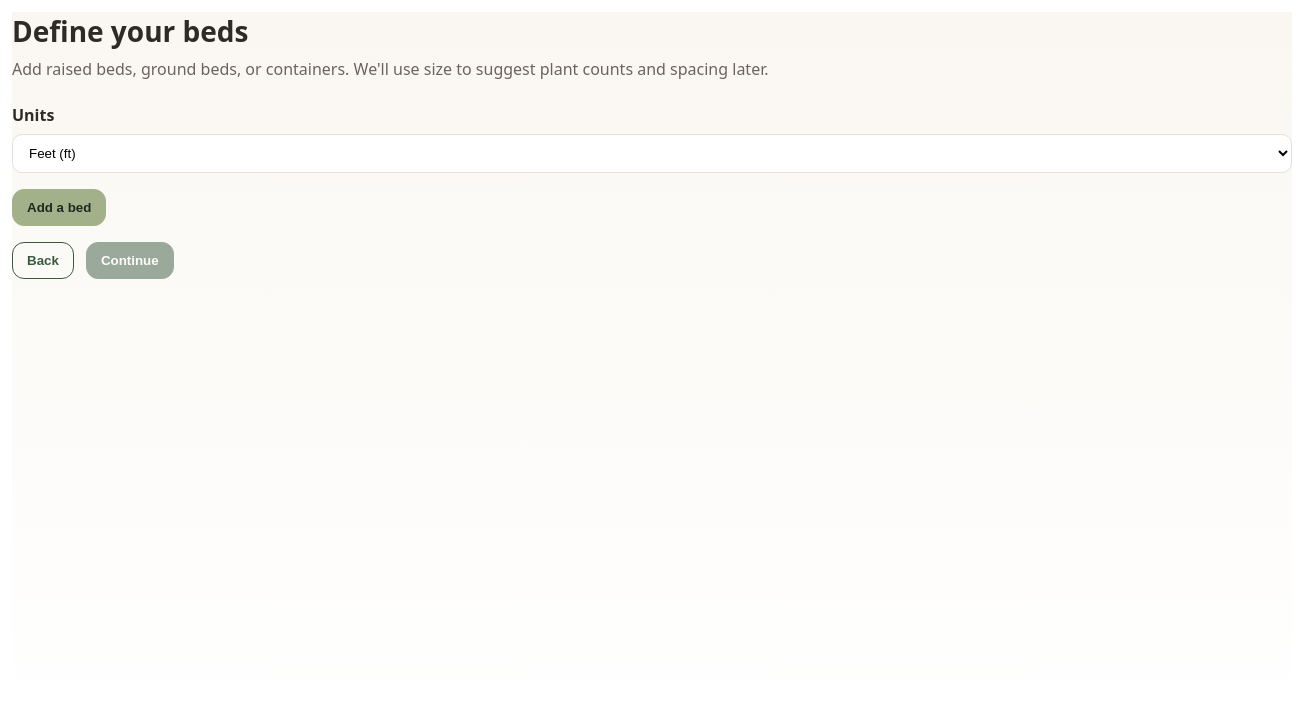
Test: BedsStep › adds and removes beds
This screenshot has width=1304, height=708.
Click the button "Add a bed" at coordinates (59, 208), box [12,189,106,226]
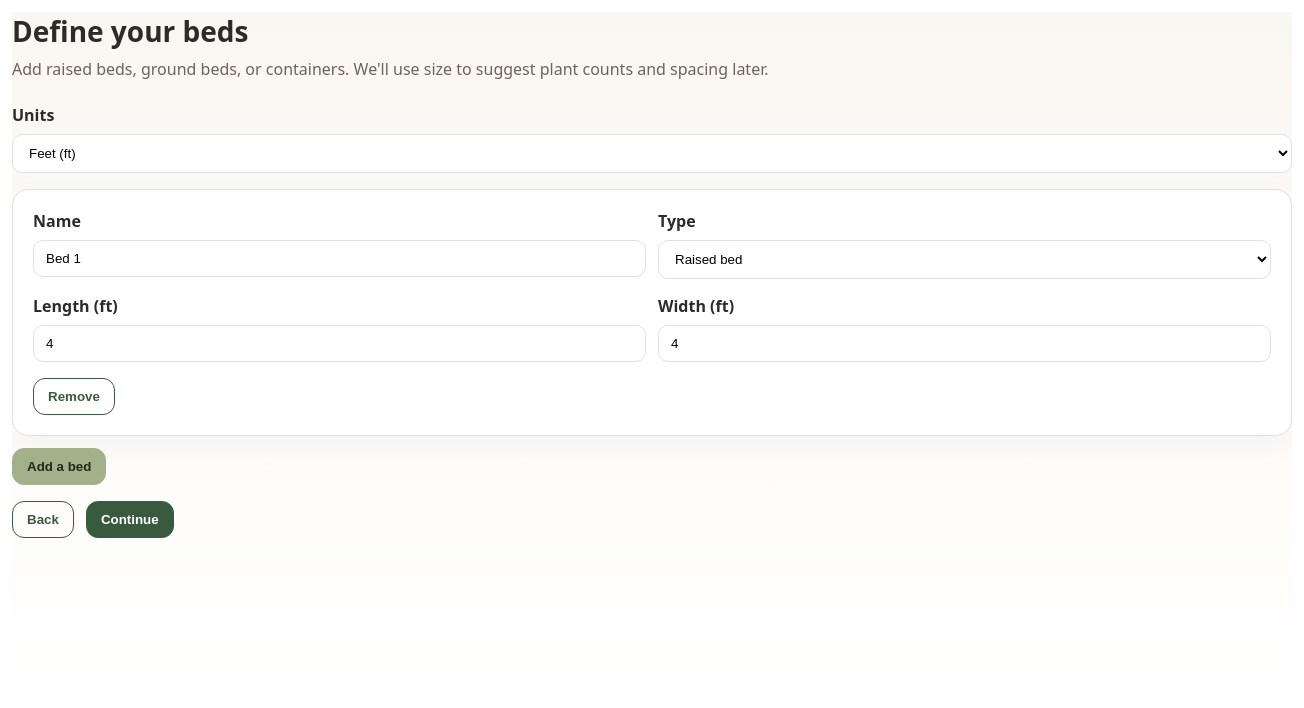
Click the button "Add a bed" at coordinates (59, 466), box [12,448,106,485]
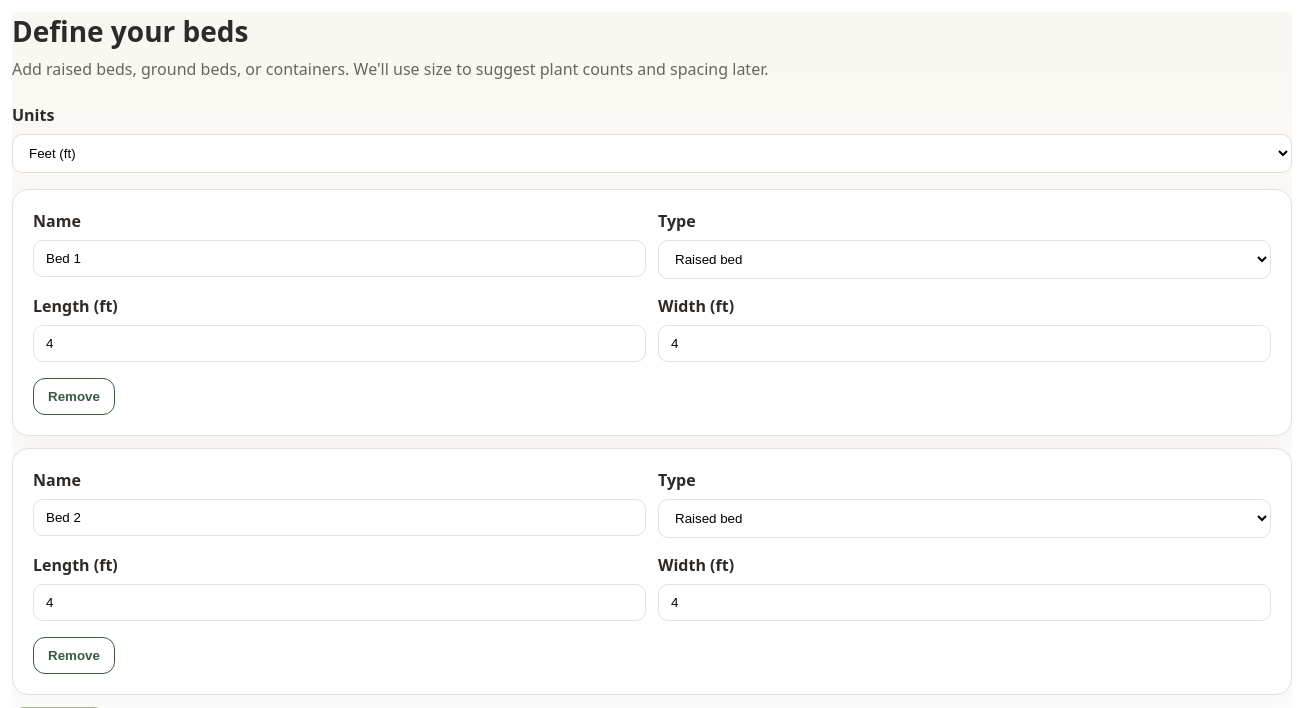
Click the 1st button "Remove" at coordinates (74, 396), box [33,378,115,415]
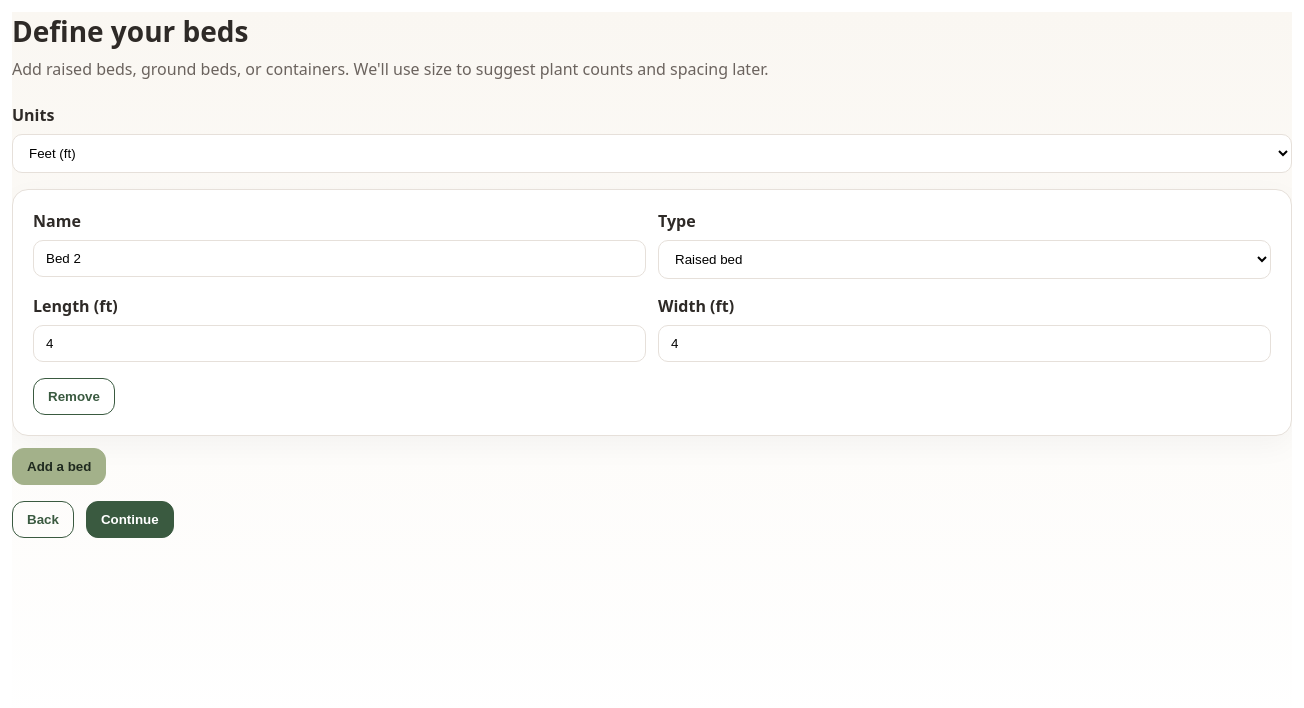
expect the number of buttons "Remove" is 1: met, box [33,378,115,415]
